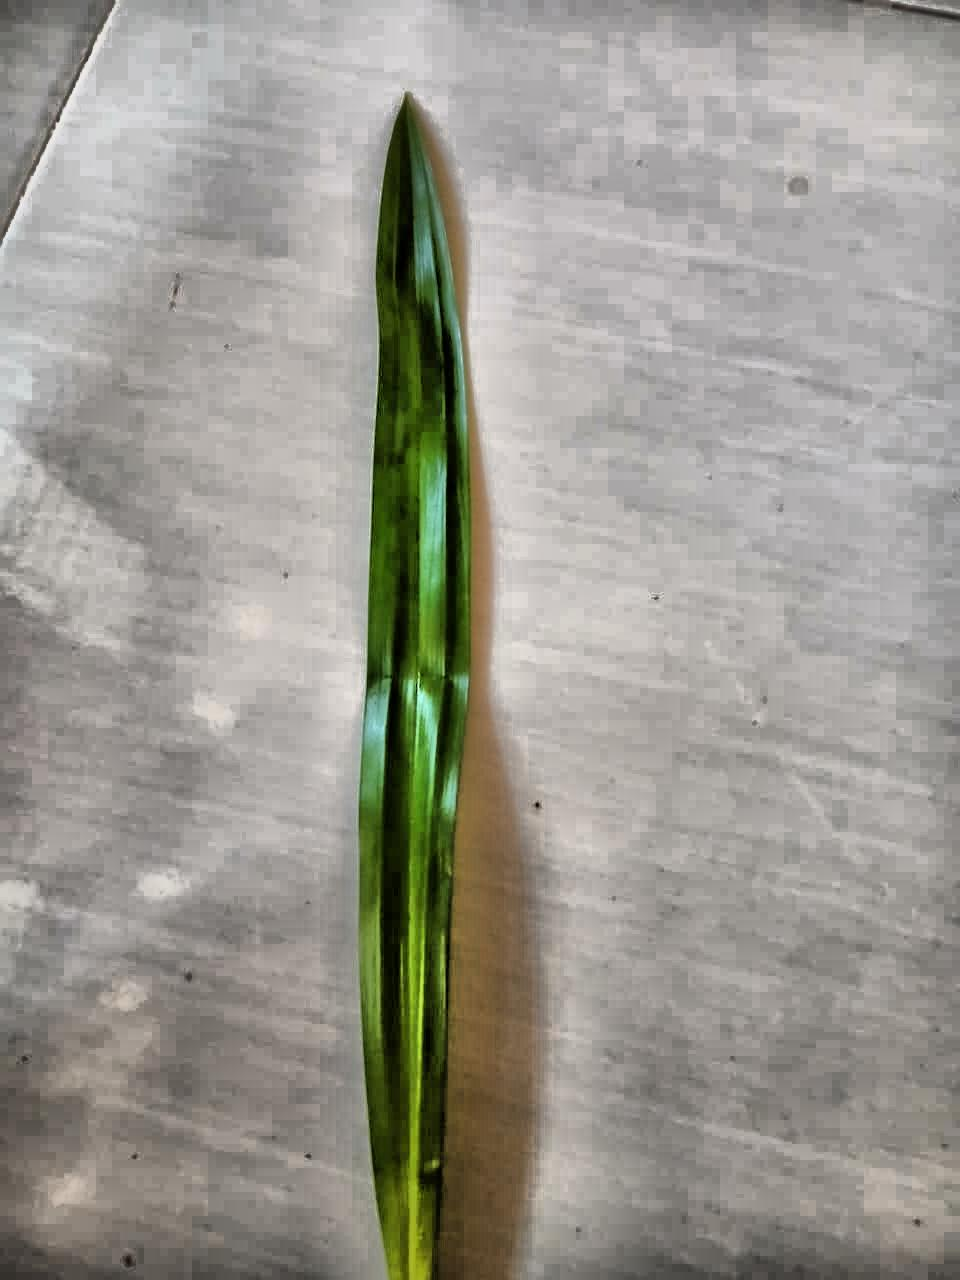daun pandan: (358, 96, 471, 1279)
